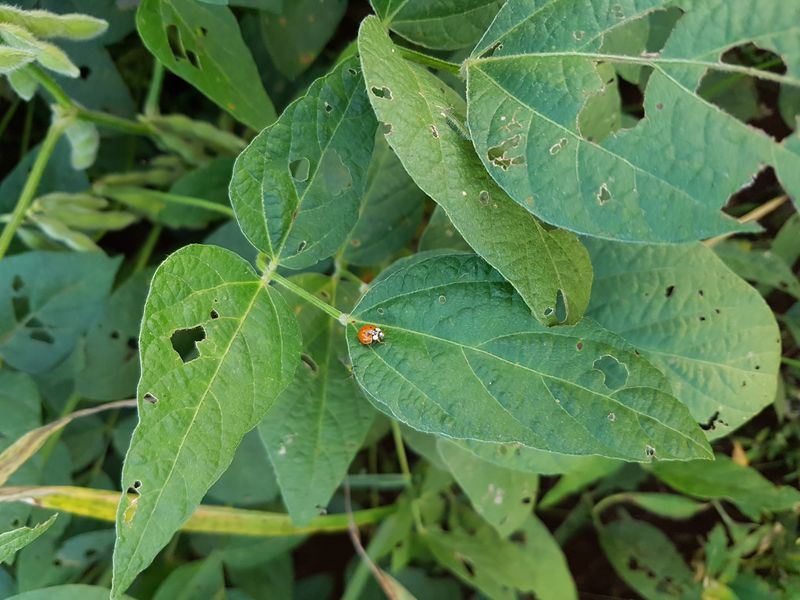Coccinellidae: (350, 316, 392, 353)
